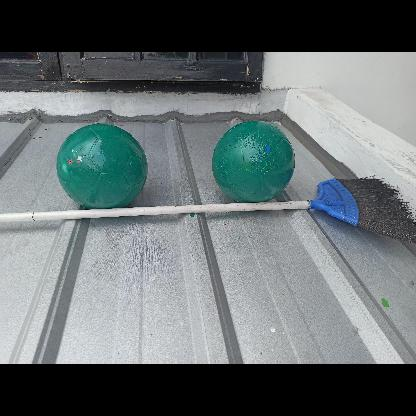green_ball: (55, 123, 145, 213), (209, 119, 294, 204)
